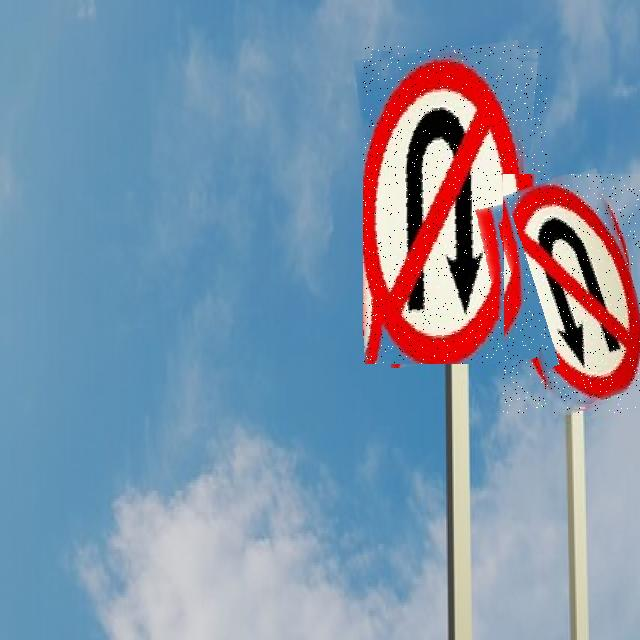no u turn: (363, 45, 547, 364), (503, 174, 640, 413)
